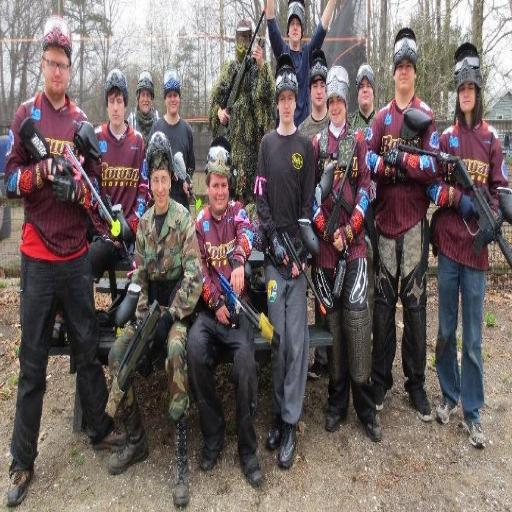person: (6, 17, 119, 505), (367, 28, 438, 420), (132, 132, 202, 505), (187, 138, 262, 486), (312, 66, 381, 441), (256, 55, 314, 468), (429, 168, 488, 448), (209, 21, 275, 203), (96, 70, 147, 241), (267, 0, 335, 126), (151, 68, 195, 177), (298, 49, 329, 140), (298, 49, 328, 139), (128, 71, 158, 146), (351, 63, 375, 129)
